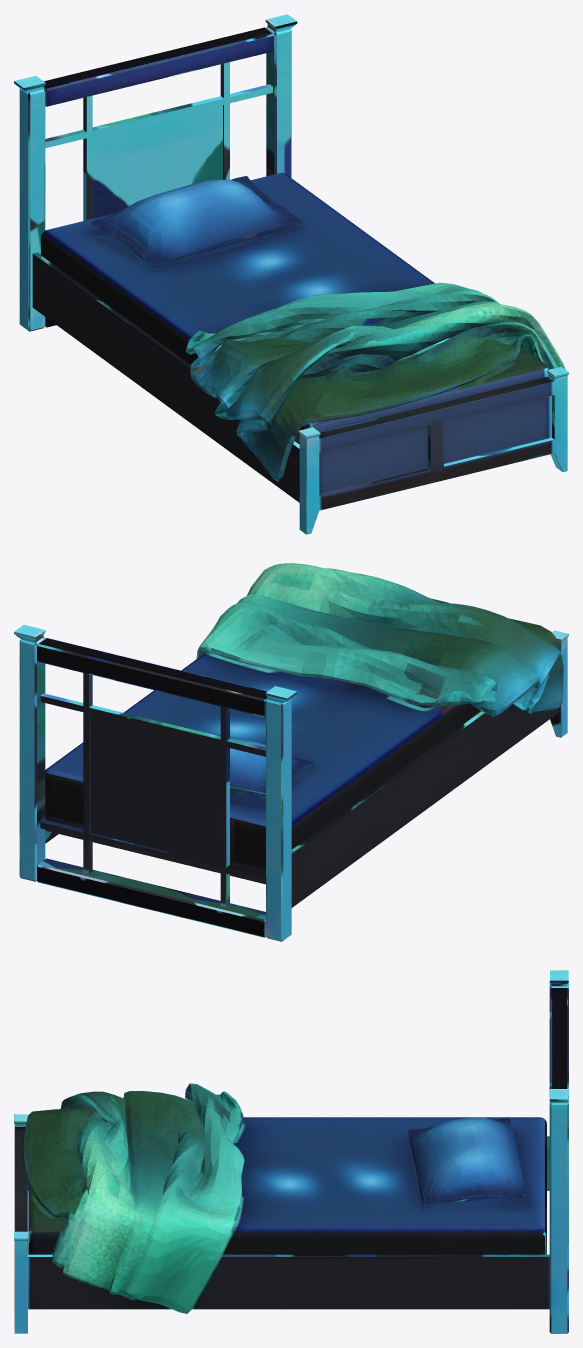
Rendered from edited_mesh.glb.
The picture shows the model from 3 angles, top to bottom: view 1: azimuth 30°, elevation 25°; view 2: azimuth 150°, elevation 25°; view 3: azimuth 270°, elevation 25°; orthographic projection. The views are drawn at different scales.
Visible parts, largest first — view 1: solid_001_wire; view 2: solid_001_wire; view 3: solid_001_wire.
Part boxes in pixels (box(x1,y1,x2,y2)): solid_001_wire: box(14, 14, 568, 534); solid_001_wire: box(14, 563, 568, 941); solid_001_wire: box(14, 970, 568, 1333).
Size of the model in its own units: 1.29 by 0.9447 by 2.
1 material, 1 textured.
